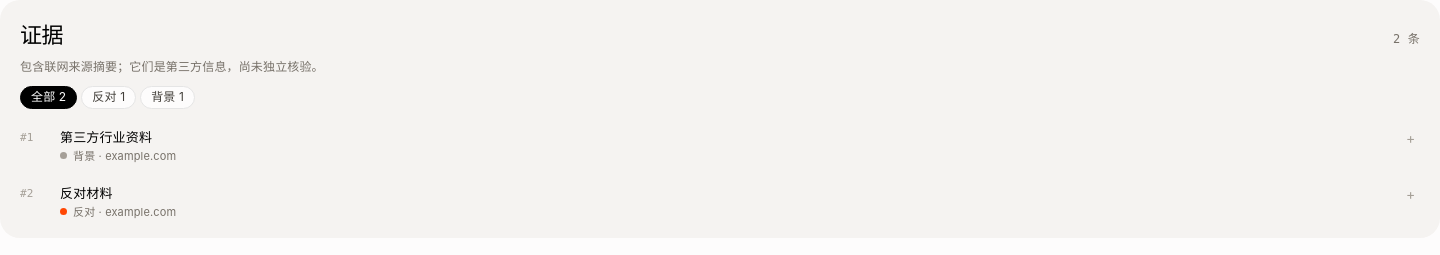
it: EvidencePanel navigation › filters by stance
Click the button "反对 1".
click(109, 98)  # box [81, 86, 136, 109]
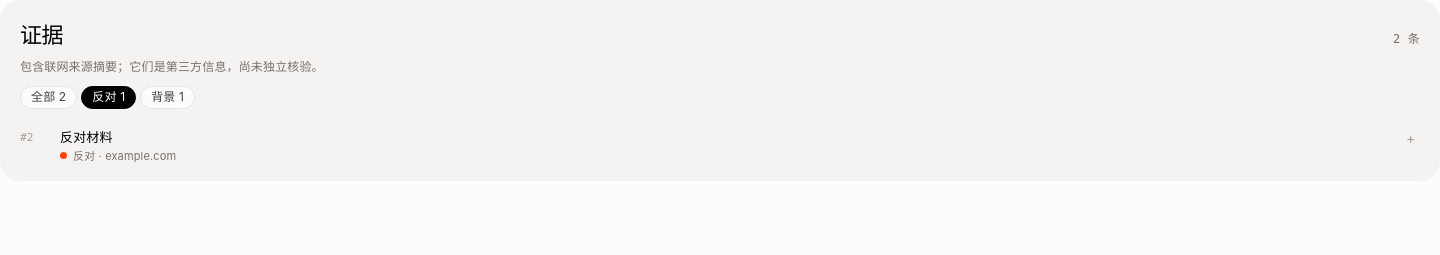
Expected: the heading "反对材料" is shown, [60, 129, 113, 145]
Expected: the button "#1" is gone
